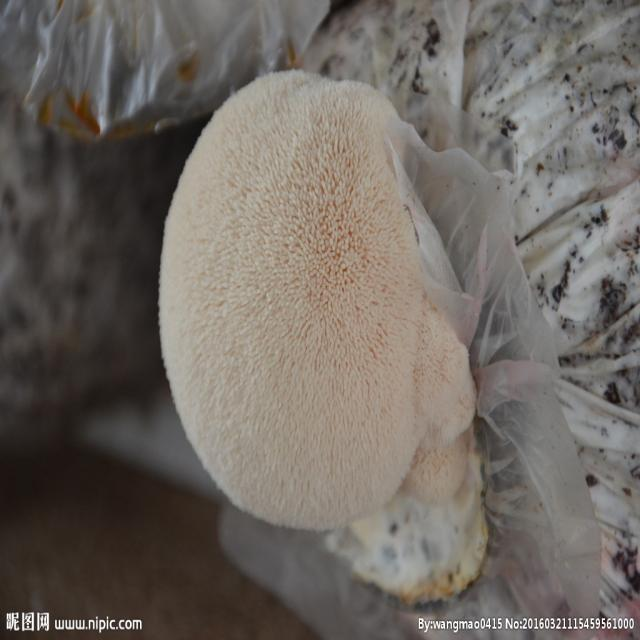Hericium erinaceus: (158, 70, 487, 605)
